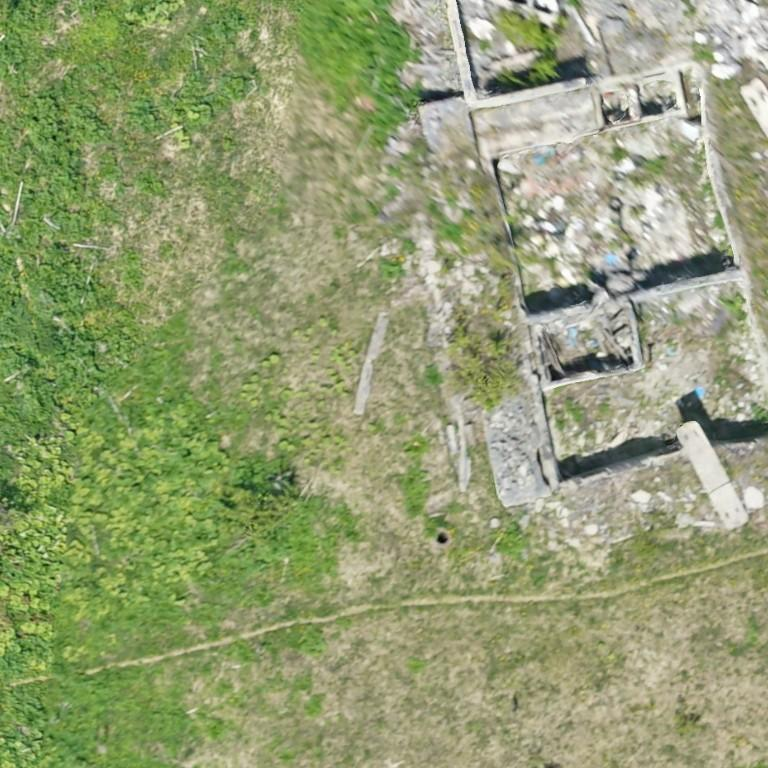hogweed: (0, 246, 136, 435), (0, 75, 108, 251), (131, 69, 250, 131), (211, 8, 245, 39)
